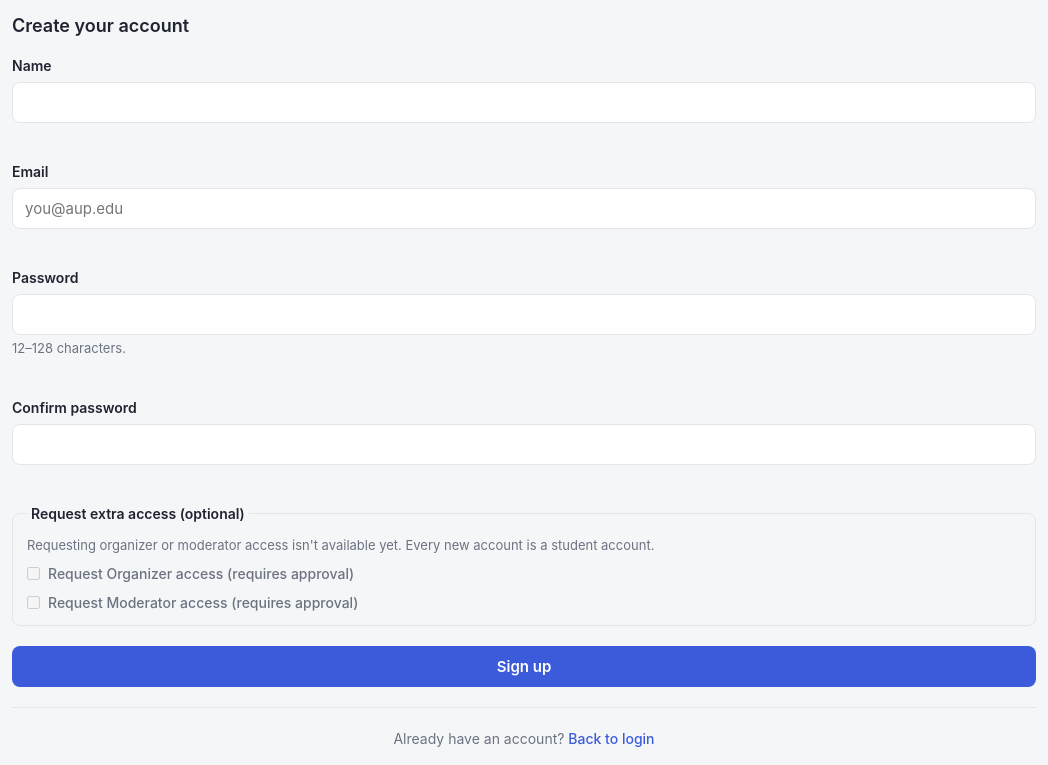
it: Signup validation (QB-167) › shows an email conflict next to the email field and keeps the input
Type "  Ada  " into the field labelled "Name".
click(524, 102); type("  Ada  ")  # box [12, 82, 1036, 123]
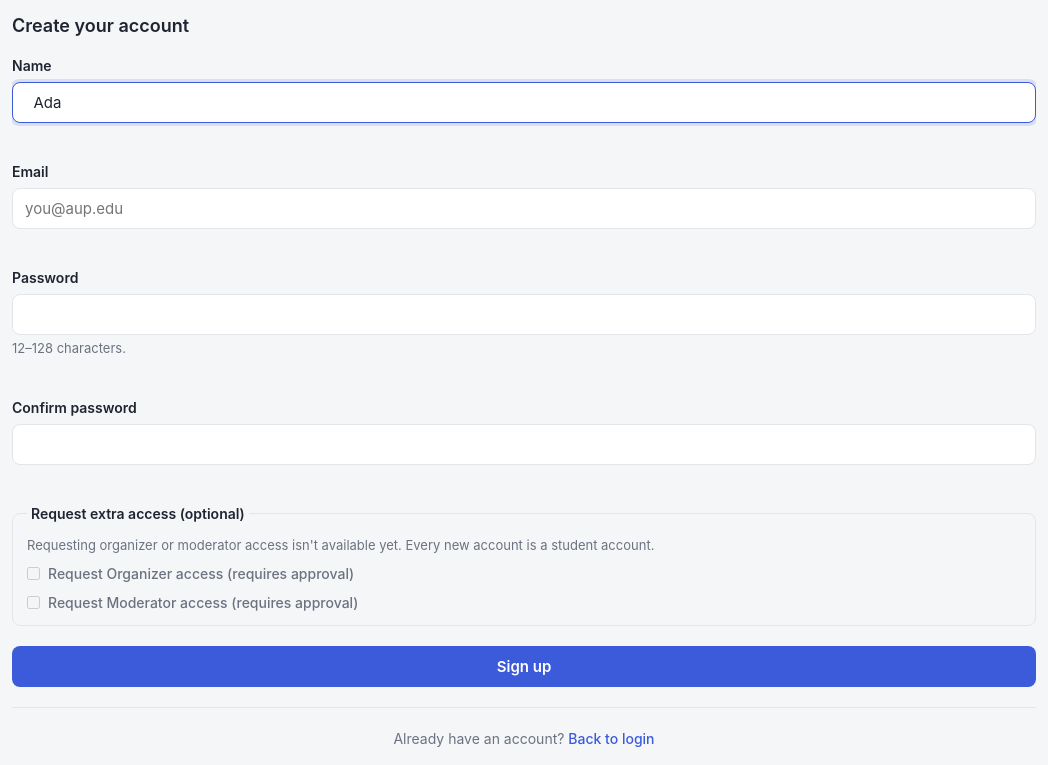
Type " ada@aup.edu " into the field labelled "Email".
click(524, 208); type(" ada@aup.edu ")  # box [12, 188, 1036, 229]
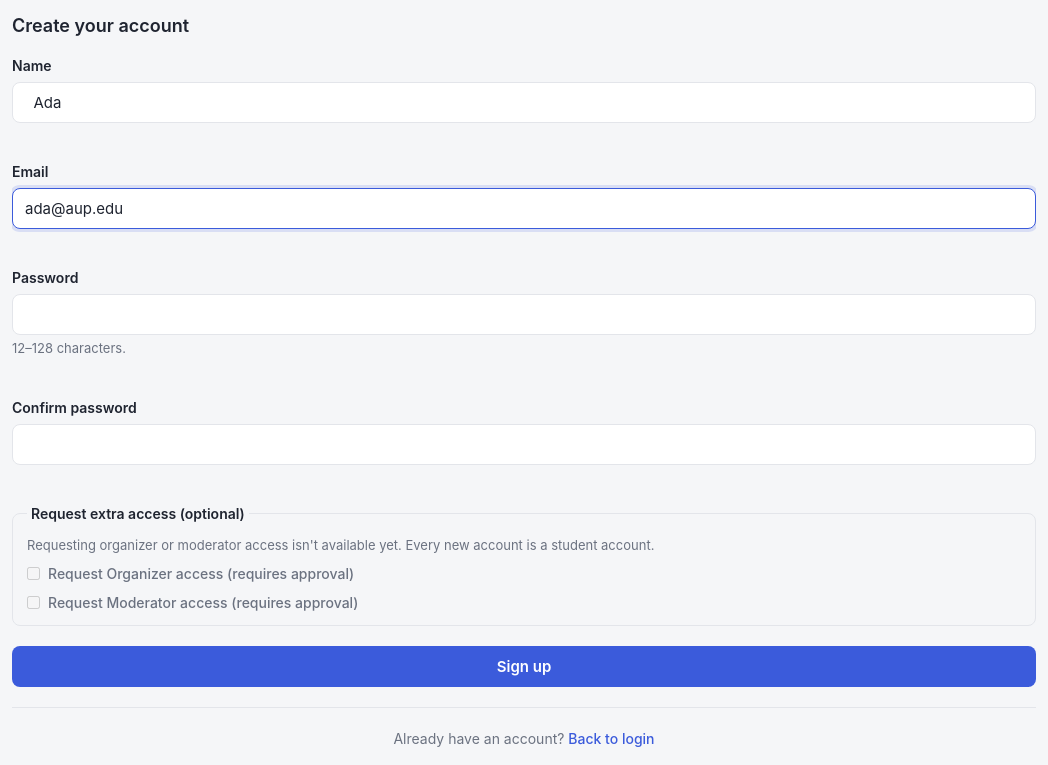
Type "  correct horse  " into the password field labelled "Password".
click(524, 314); type("  correct horse  ")  # box [12, 294, 1036, 335]
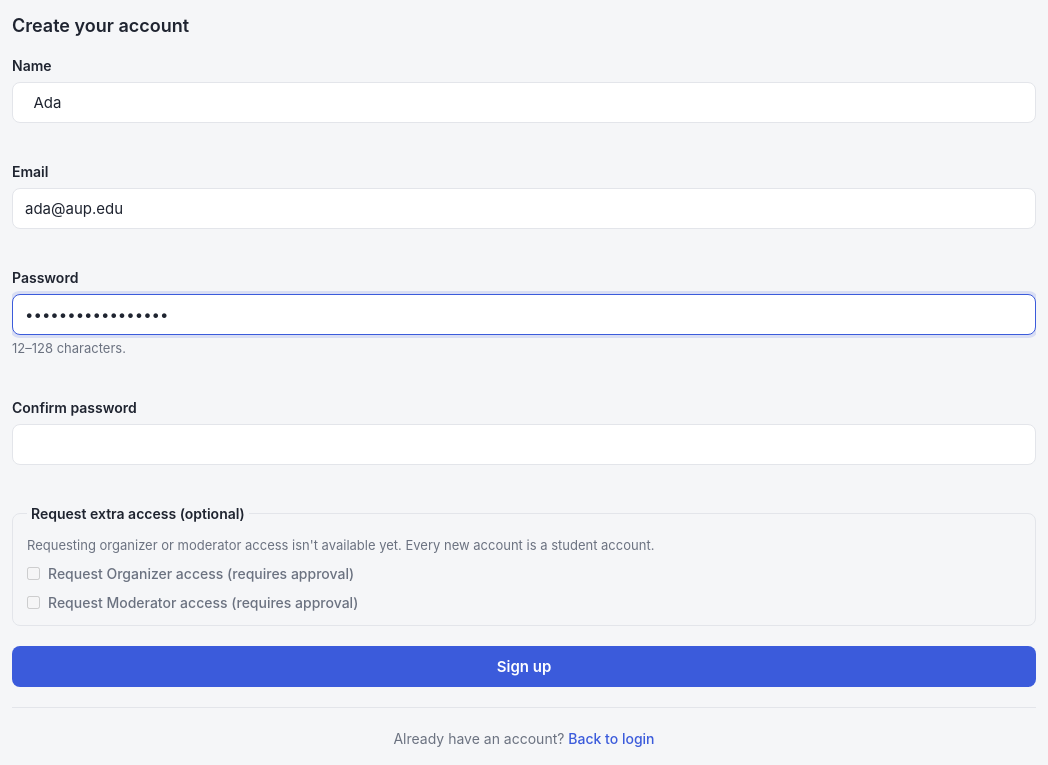
Type "  correct horse  " into the password field labelled "Confirm password".
click(524, 444); type("  correct horse  ")  # box [12, 424, 1036, 464]
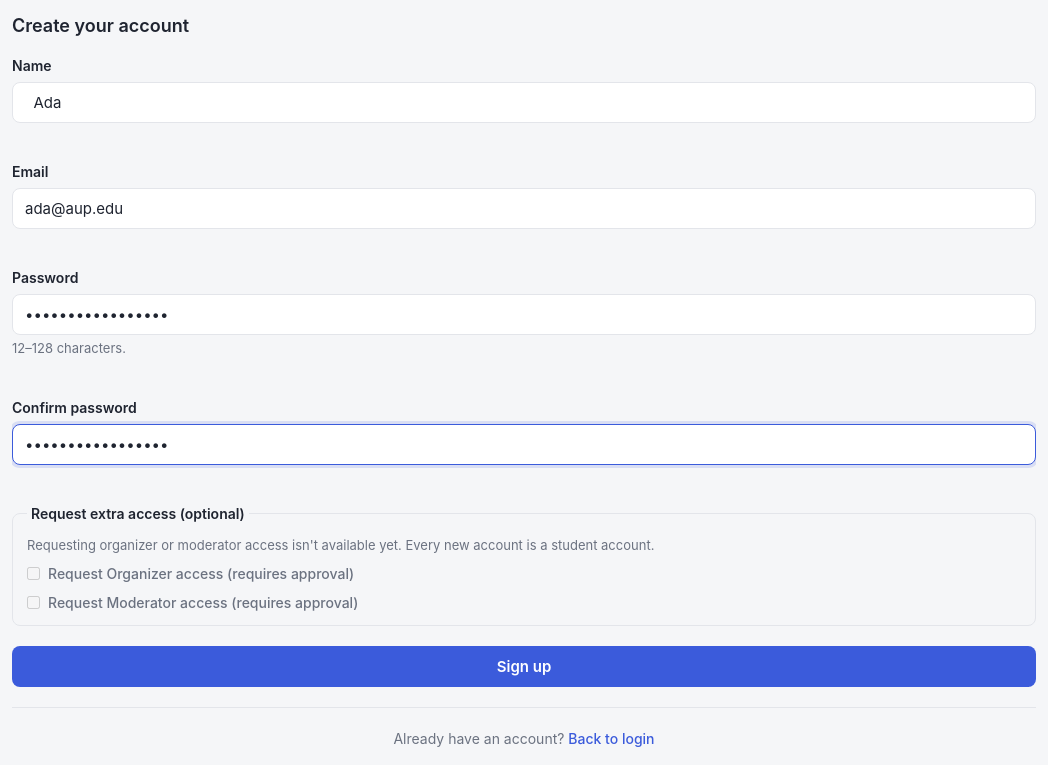
Click the button "Sign up".
click(524, 666)  # box [12, 646, 1036, 687]
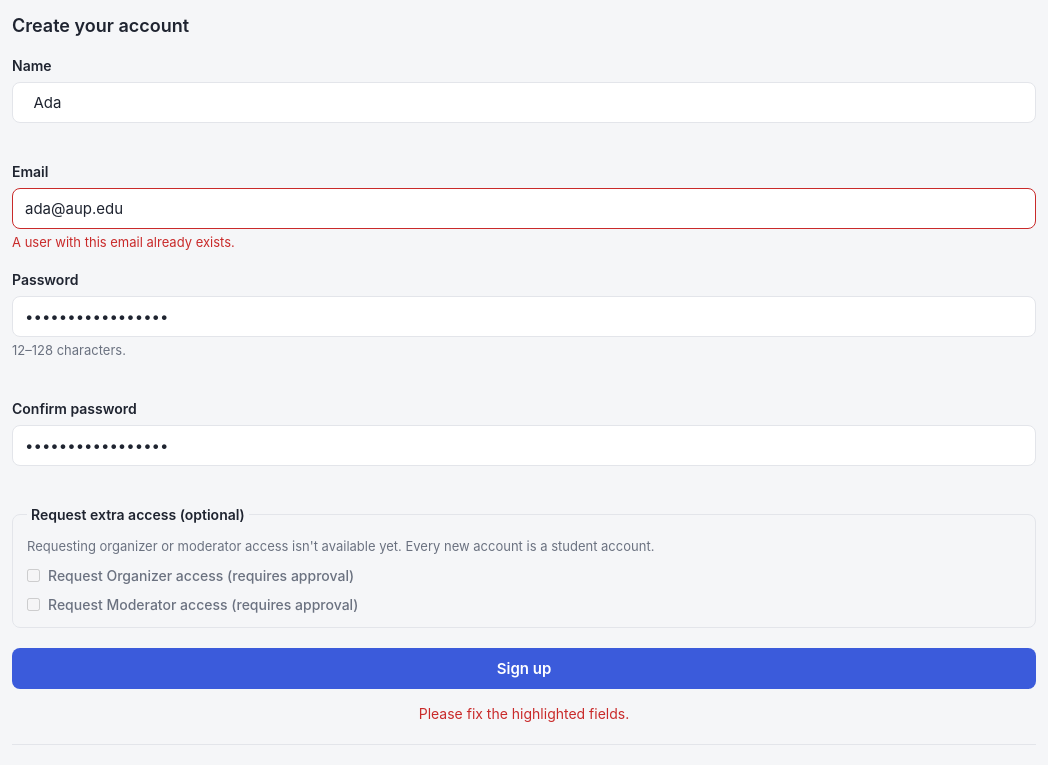
Expected: the text "A user with this email already exists." is shown, [12, 234, 235, 250]
Expected: the message reads "Please fix the highlighted fields.", [419, 704, 629, 722]
